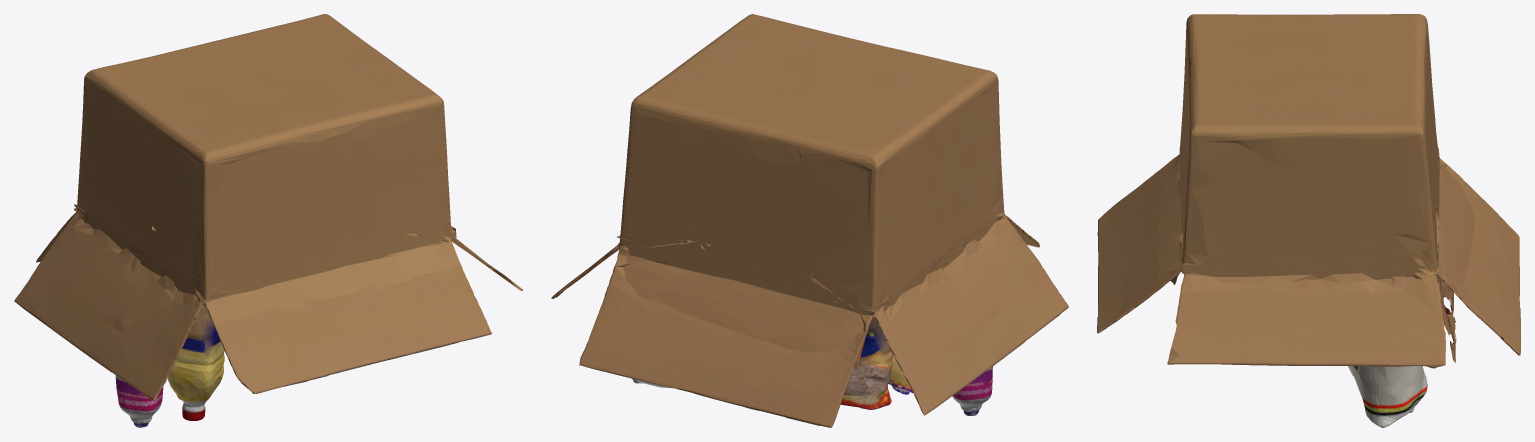
Rendered from item_cesta.obj.
The picture shows the model from 3 angles, left to right: view 1: azimuth 30°, elevation 25°; view 2: azimuth 150°, elevation 25°; view 3: azimuth 270°, elevation 25°; orthographic projection. The views are drawn at different scales.
Bounding box in the file's own units: 100 × 77.72 × 99.85.
Materials: 1 (1 with a texture image).
